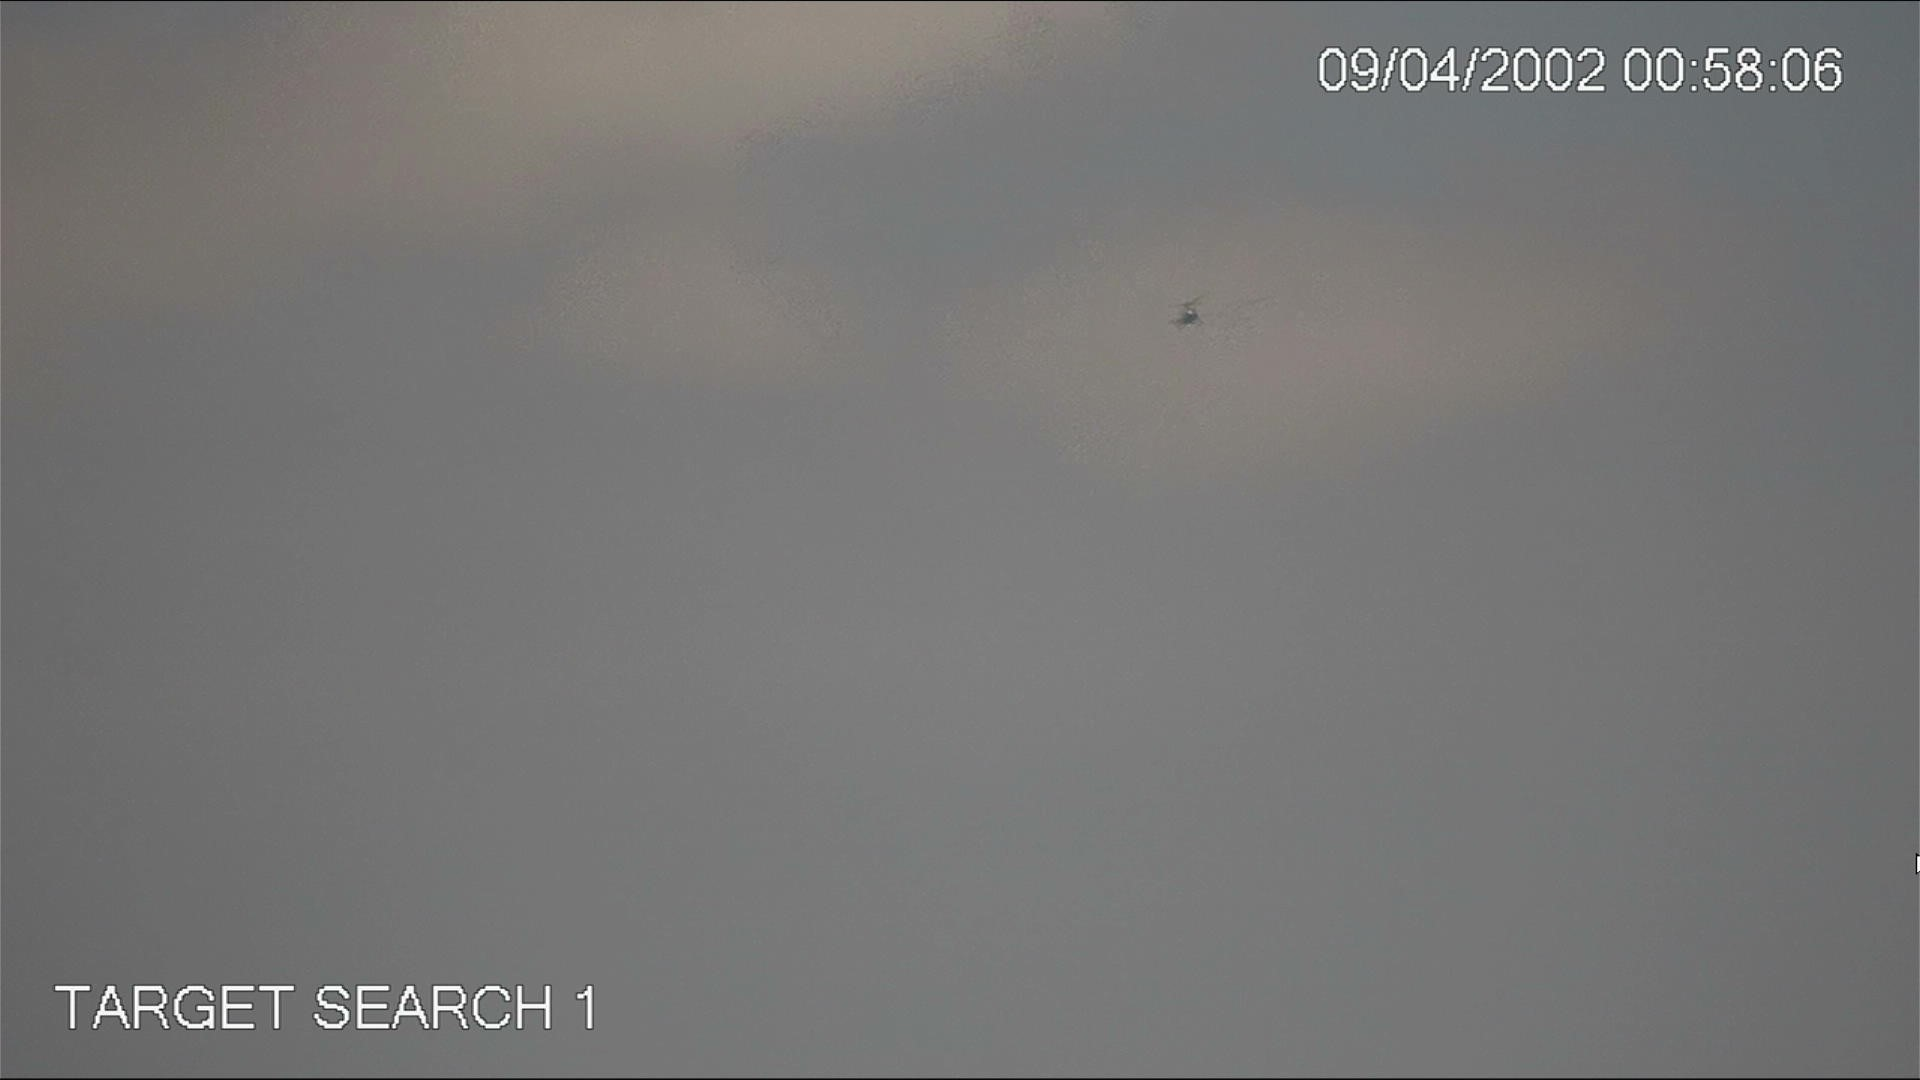SU_30: (1166, 301, 1203, 328)
